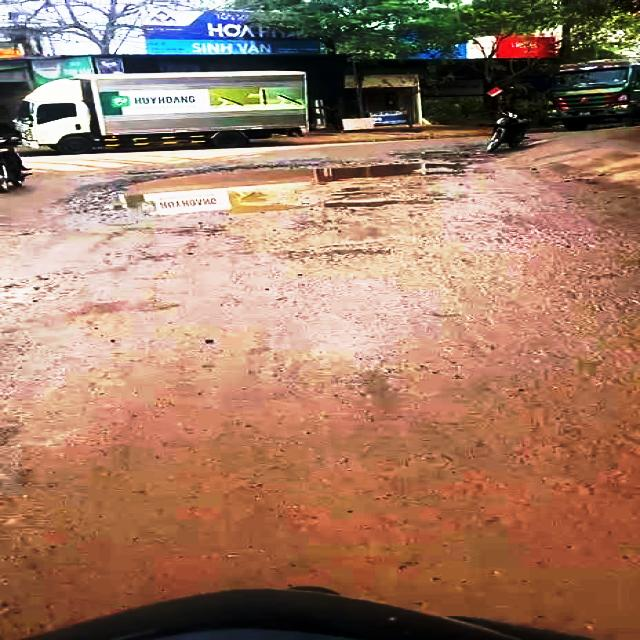pothole: (58, 158, 463, 216)
